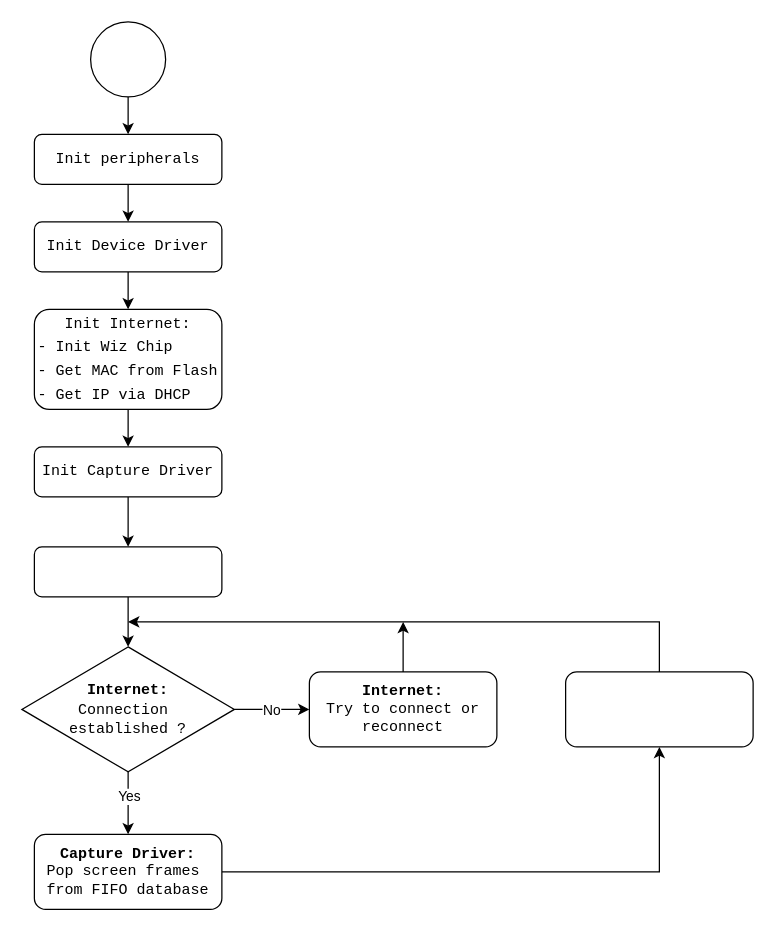
This 775x931 diagram has some shape labels left out. The shapes that lost their labels are listed below. From the top down, each one's centre as x and y in pixels, then its label:
point 127,59: Start
point 127,571: Start Super Loop
point 658,709: Internet: Send to Device Service
